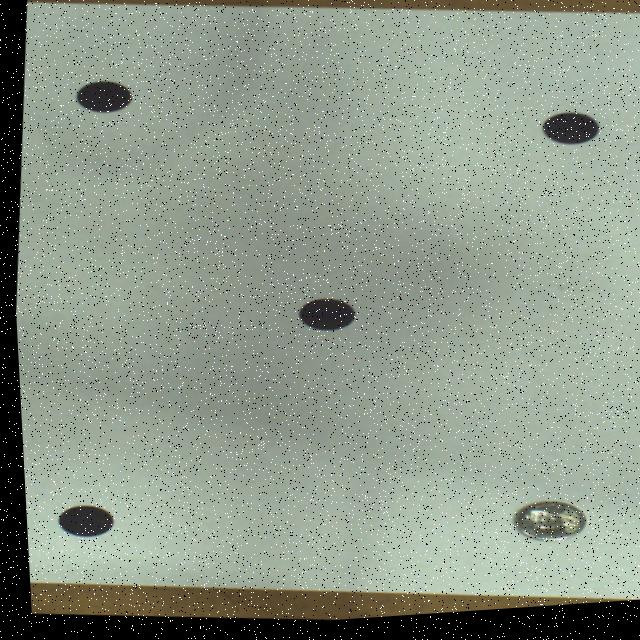head1bath: (507, 507, 579, 547)
space: (53, 505, 108, 537), (295, 302, 351, 333), (75, 81, 130, 112), (542, 119, 595, 150)
